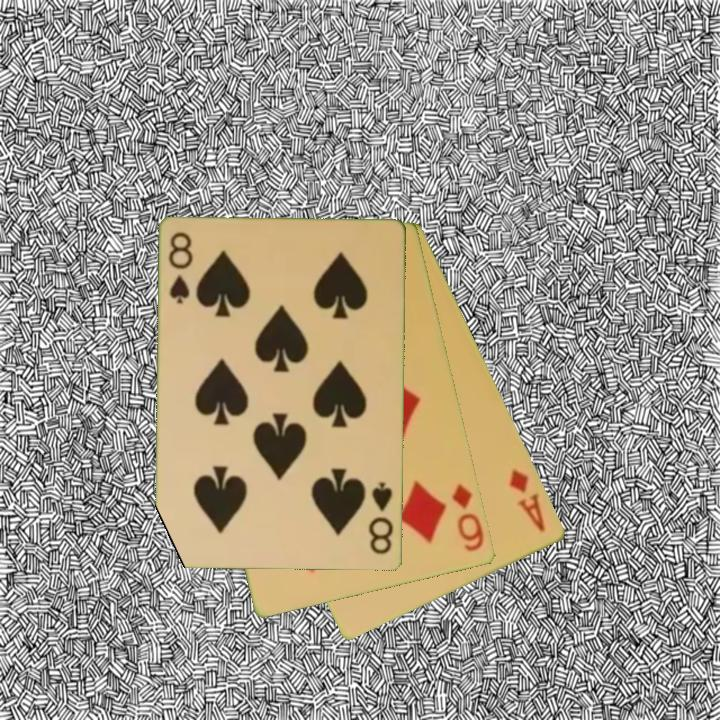6d: (449, 481, 487, 555)
8s: (365, 479, 396, 557), (166, 229, 196, 308)
Ad: (506, 465, 549, 535)
